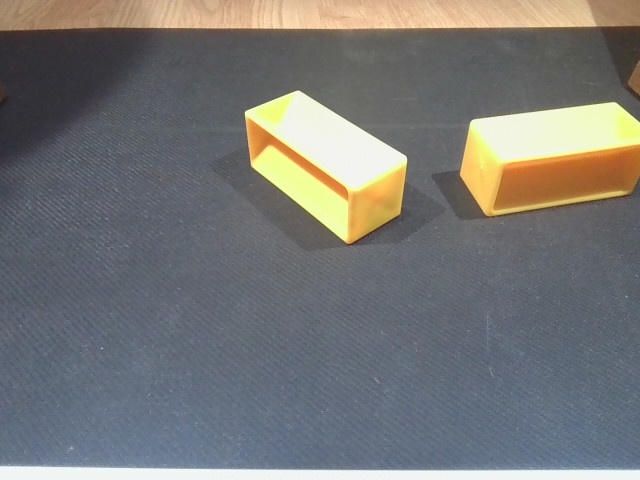YellowSample: (242, 85, 418, 246), (457, 97, 640, 216)
